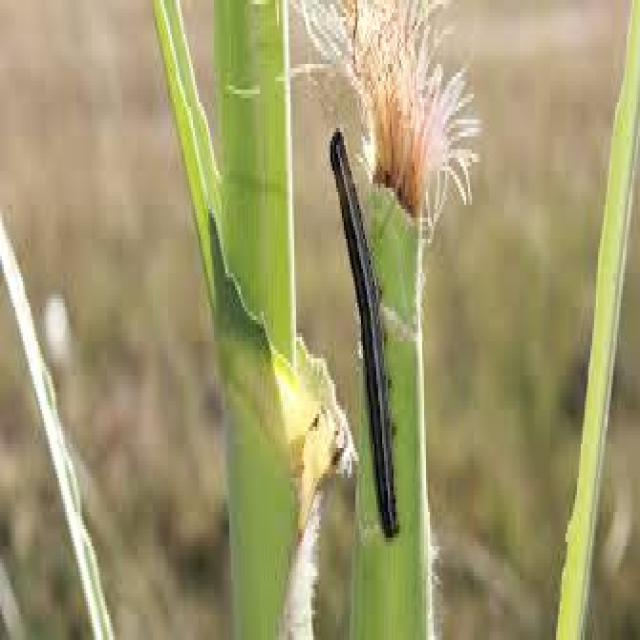Army Worm: (325, 118, 409, 549)
